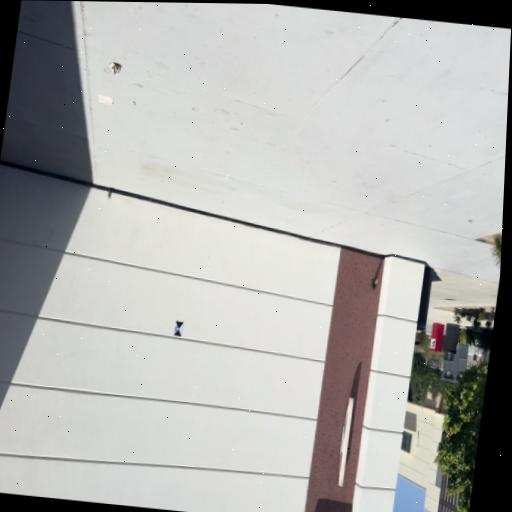target7: (173, 321, 184, 337)
